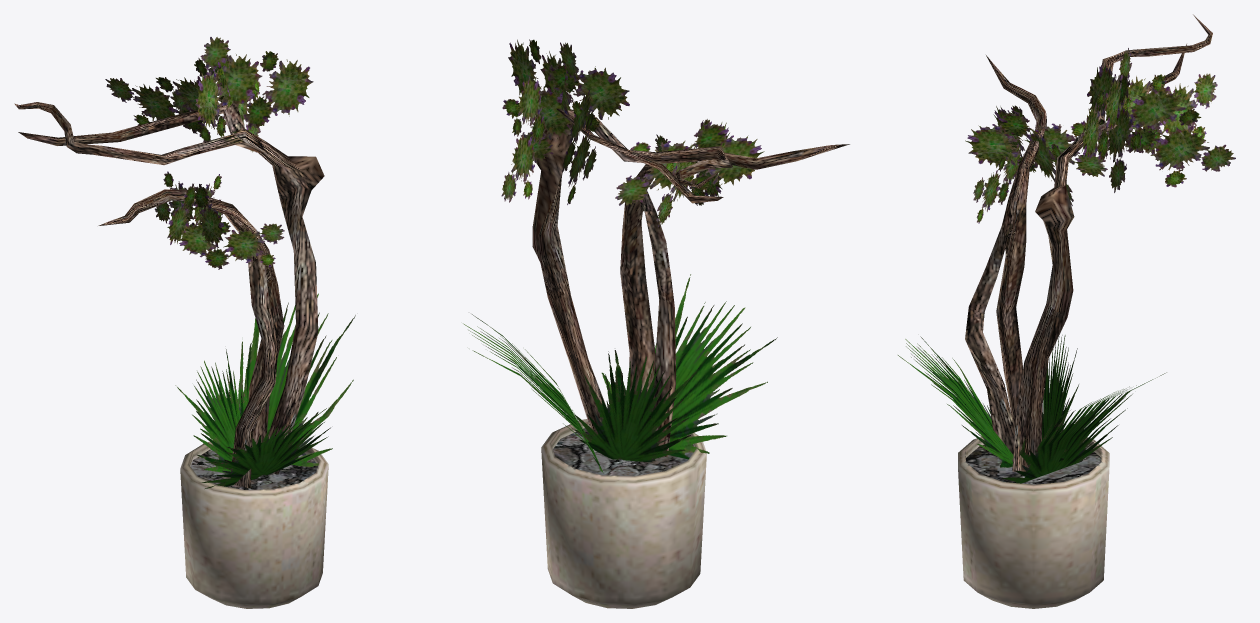
The model's file is frn_all_tree_potted_s2_l0.fbx.
The picture shows the model from 3 angles, left to right: view 1: azimuth 30°, elevation 25°; view 2: azimuth 150°, elevation 25°; view 3: azimuth 270°, elevation 25°; orthographic projection. The views are drawn at different scales.
Parts seen in each view (by area): view 1: mesh_node; view 2: mesh_node; view 3: mesh_node.
Boxes of the visible parts, x1,y1,x2,y2 form: mesh_node: [14, 37, 355, 608]; mesh_node: [463, 39, 849, 608]; mesh_node: [898, 14, 1235, 608].
Size of the model in its own units: 1.68 by 2.47 by 1.5.
